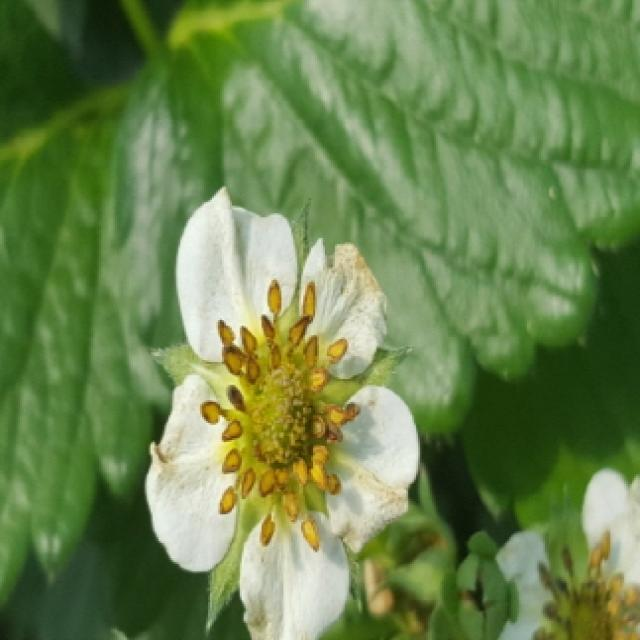Blossom Blight: (198, 273, 369, 554)
